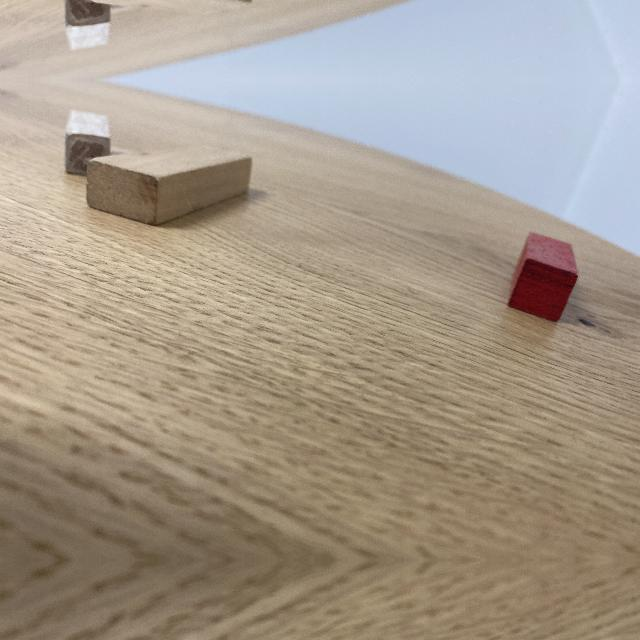block: (65, 109, 111, 176), (65, 0, 111, 51)
jenga: (87, 139, 253, 226)
red block: (507, 233, 579, 323)
